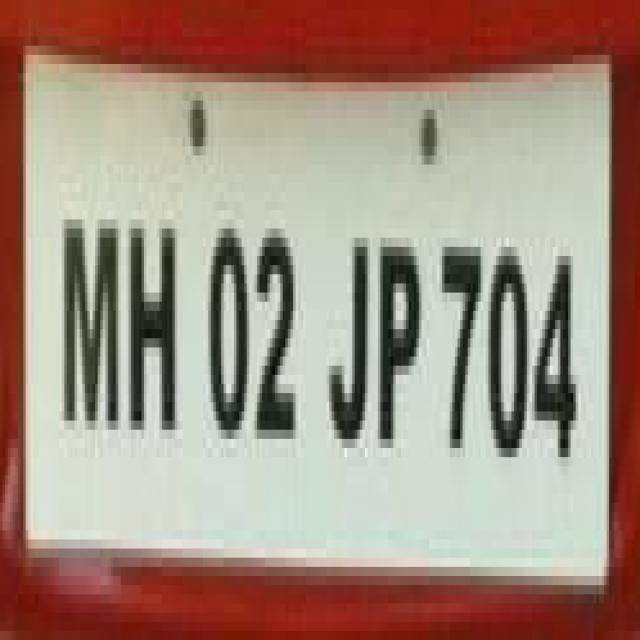license_plate: (5, 45, 609, 612)
